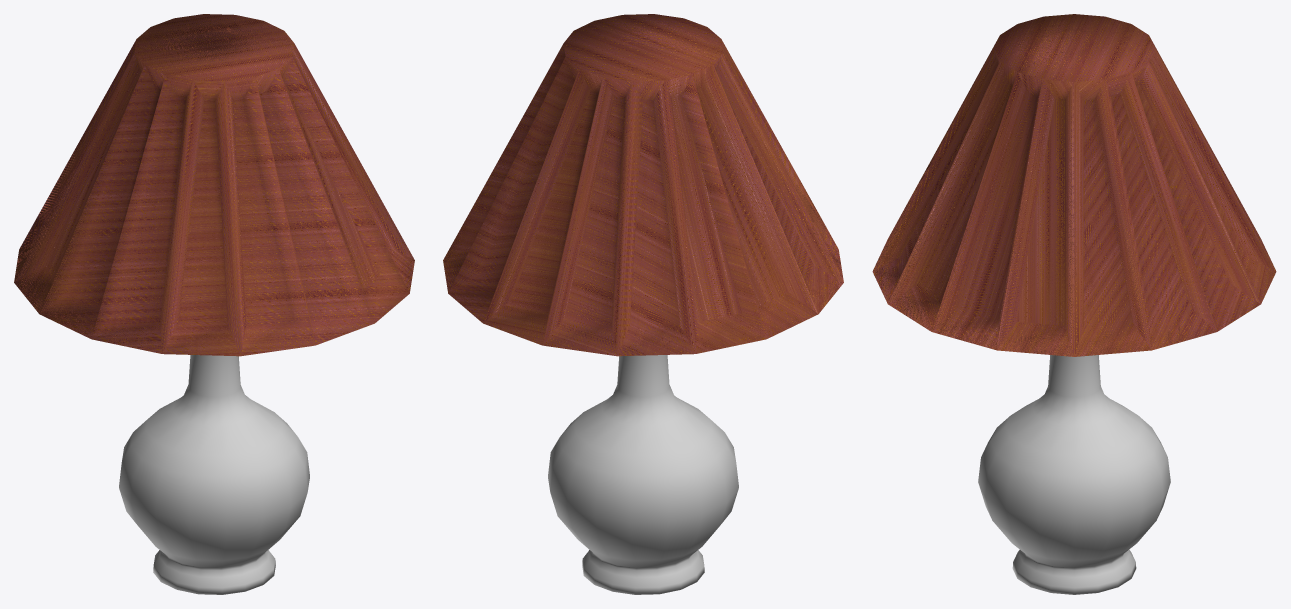
Rendered from abajurrrrrr.fbx.
The picture shows the model from 3 angles, left to right: view 1: azimuth 30°, elevation 25°; view 2: azimuth 150°, elevation 25°; view 3: azimuth 270°, elevation 25°; orthographic projection.
Visible parts, largest first — view 1: abajurbası, abajursapi; view 2: abajurbası, abajursapi; view 3: abajurbası, abajursapi.
Part boxes in pixels (x1,y1,x2,y2): abajurbası: (14,14,414,356); abajursapi: (119,355,309,594); abajurbası: (443,14,843,356); abajursapi: (548,355,738,594); abajurbası: (872,14,1276,356); abajursapi: (978,355,1170,594).
Bounding box in the file's own units: 234 × 333 × 234.
